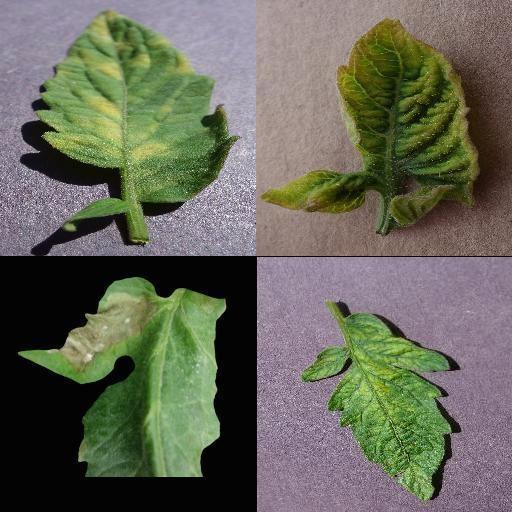Late Blight: (19, 276, 227, 478)
Leaf Mold: (35, 9, 241, 203)
Mosaic Virus: (300, 313, 456, 507)
Yellow Leaf Curl Virus: (262, 18, 479, 228)
